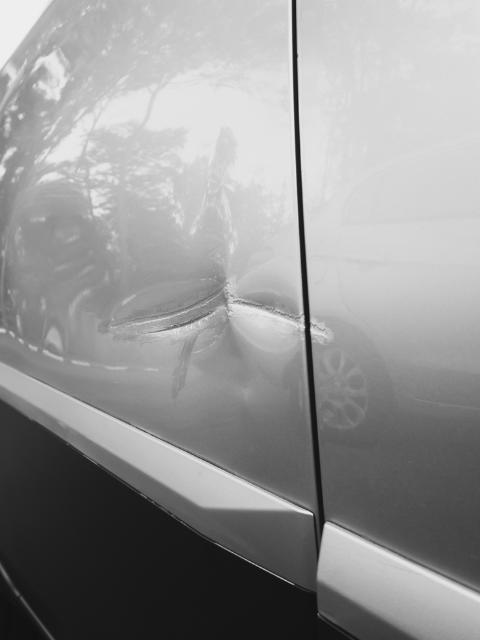Door: (59, 79, 394, 479)
